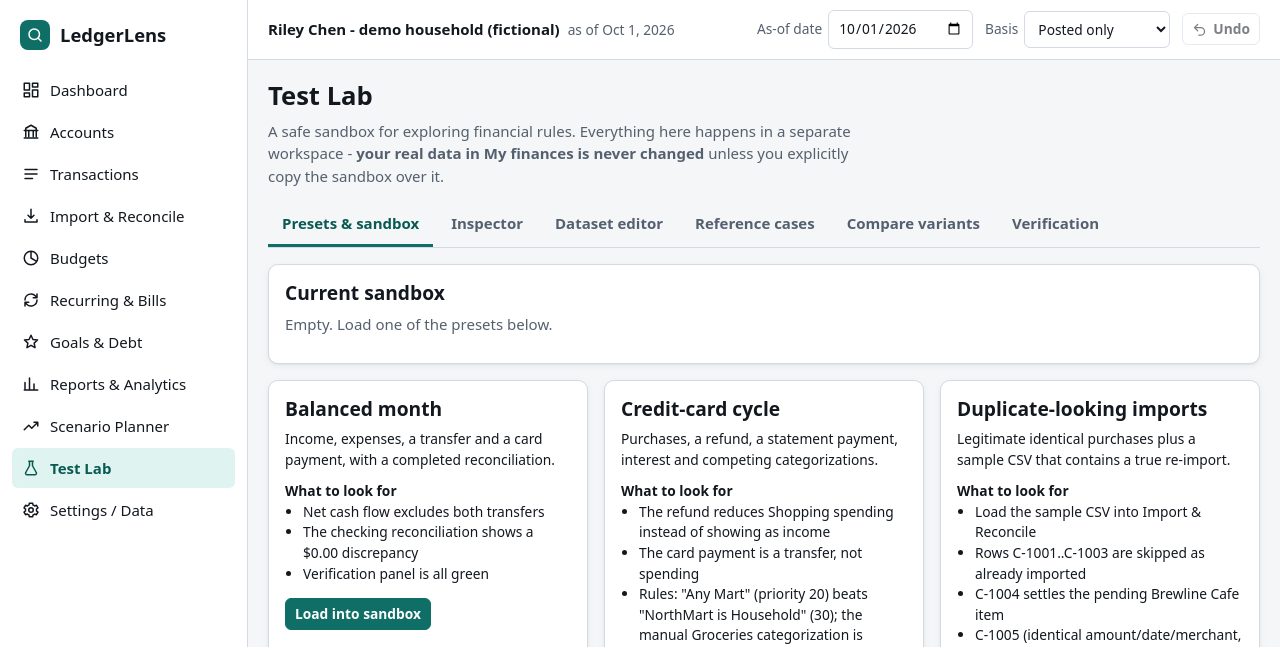
Test case: recurring, planner, lab and settings › test lab: loading a preset changes only the sandbox; invalid JSON edits are rejected
The width and height of the screenshot is (1280, 647).
Click the button "Load into sandbox" below "Verification panel is all green": (358, 614) [285,598,431,630]
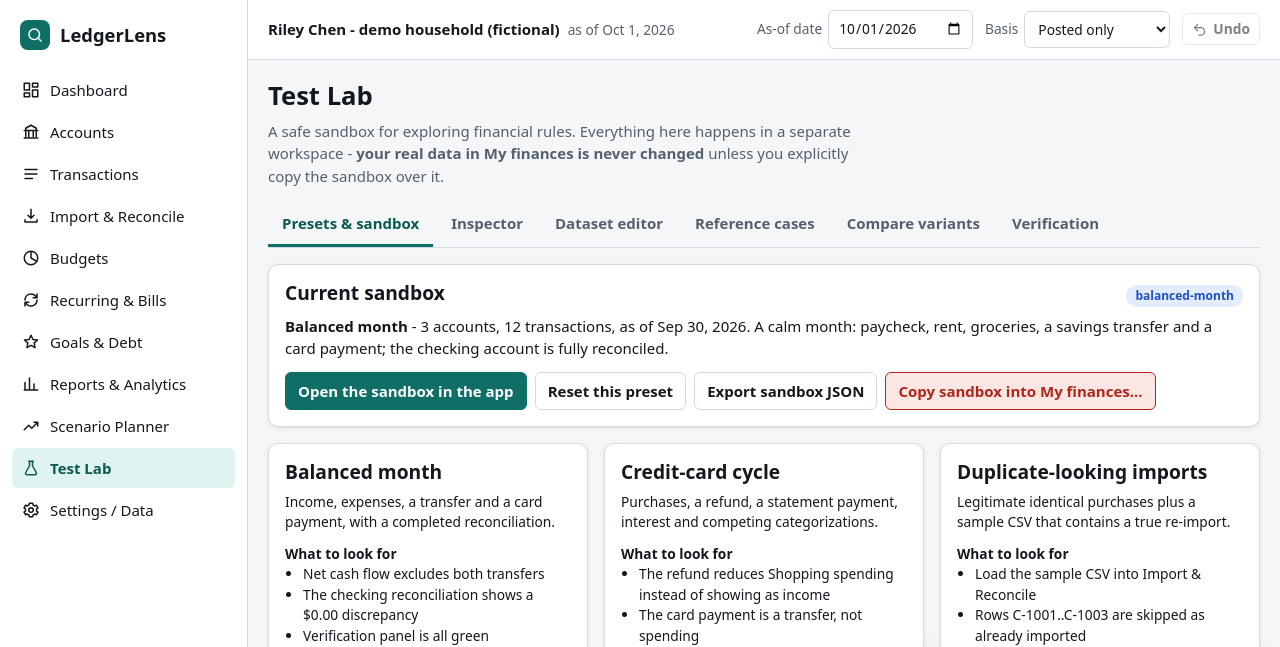
Check: the text "balanced-month" is shown, box [1126,285,1243,307]
